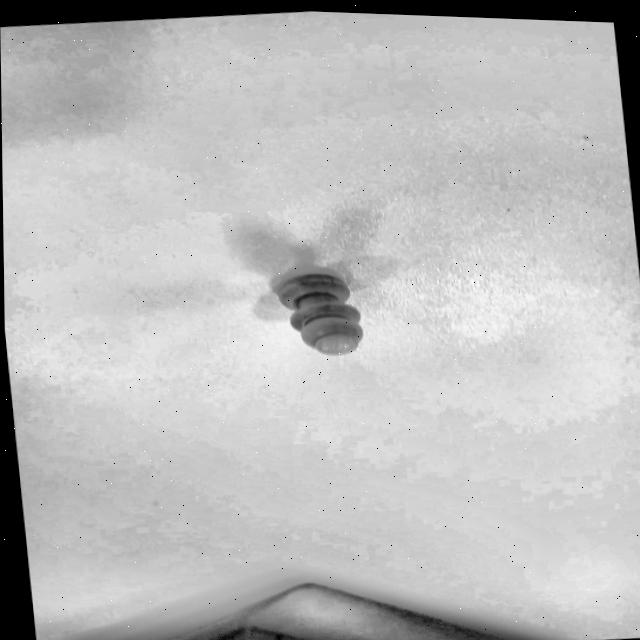white-bishop: (234, 245, 424, 383)
